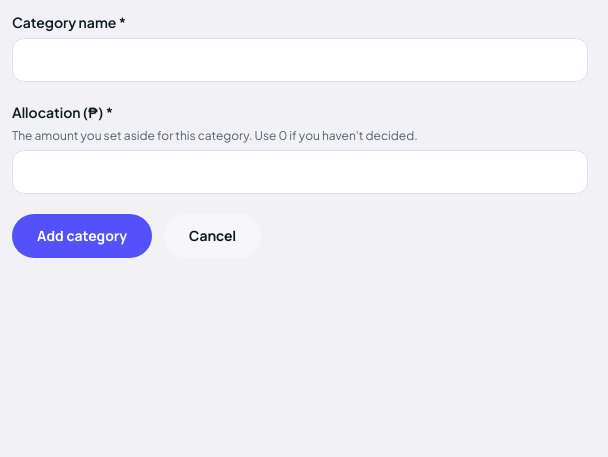
CategoryForm › lists every problem at once, focuses the summary and keeps what was typed
The width and height of the screenshot is (608, 457).
What coordinates should you click on to do the following:
click the button "Add category"
I would click on:
 (82, 236)
Its box is x1=12 y1=214 x2=152 y2=258.
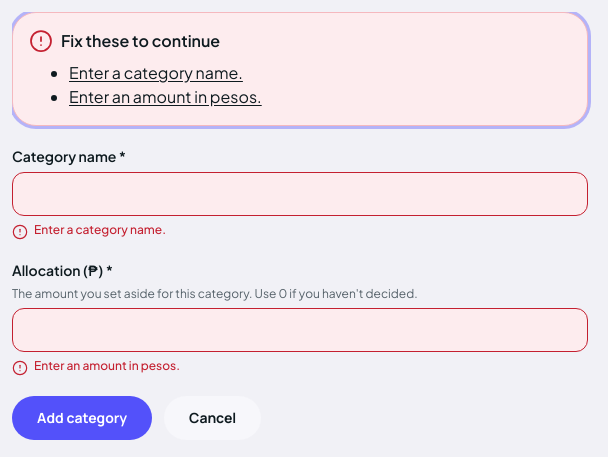
Now the element "Fix these to continue" shows "Enter a category name.", box x1=69 y1=62 x2=243 y2=83
Now the element "Fix these to continue" shows "Enter an amount in pesos.", box x1=69 y1=86 x2=262 y2=107
